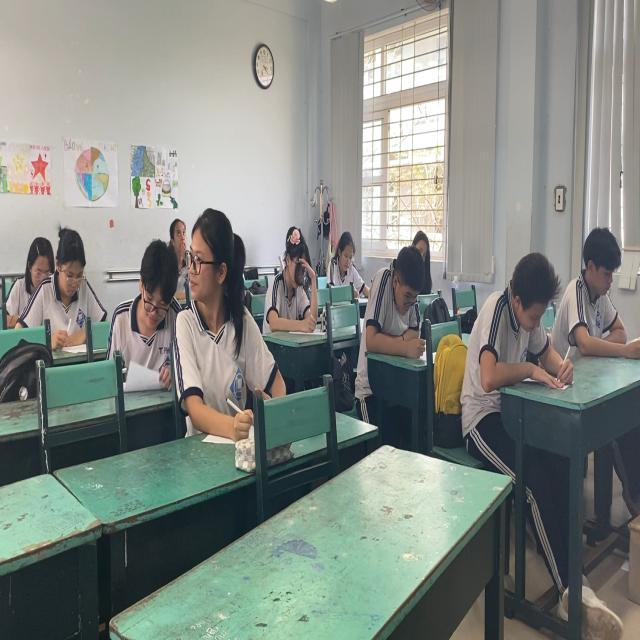cheating: (163, 201, 264, 416)
not_cheating: (474, 253, 567, 402), (565, 219, 637, 357), (260, 218, 330, 336), (27, 219, 96, 326), (115, 243, 176, 354), (365, 250, 419, 356), (322, 216, 369, 294)
